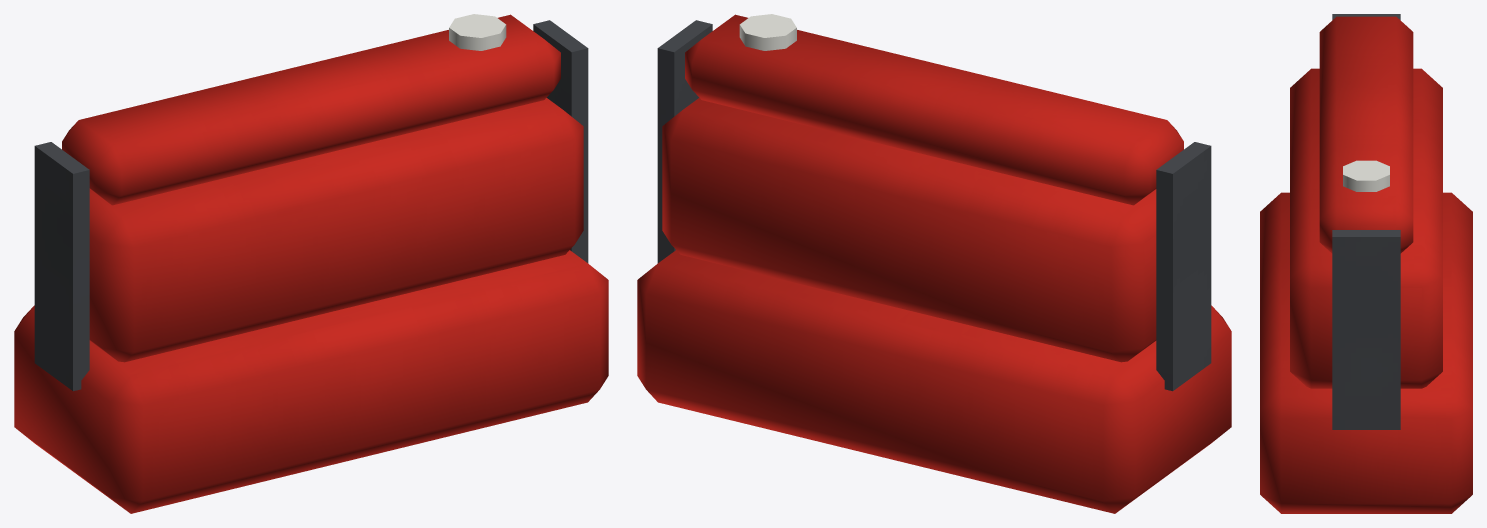
File: barreira_plastico.glb
3 views of the same model, side by side, from view 1: azimuth 30°, elevation 25°; view 2: azimuth 150°, elevation 25°; view 3: azimuth 270°, elevation 25° (orthographic). The views are drawn at different scales.
Visible parts, largest first — view 1: Inteiro; view 2: Inteiro; view 3: Inteiro.
Boxes of the visible parts, <box> form: Inteiro: <box>14,14,608,513</box>; Inteiro: <box>637,14,1231,513</box>; Inteiro: <box>1260,14,1472,513</box>.
Size of the model in its own units: 1.24 by 0.82 by 0.5.
Materials: 1 (1 with a texture image).
